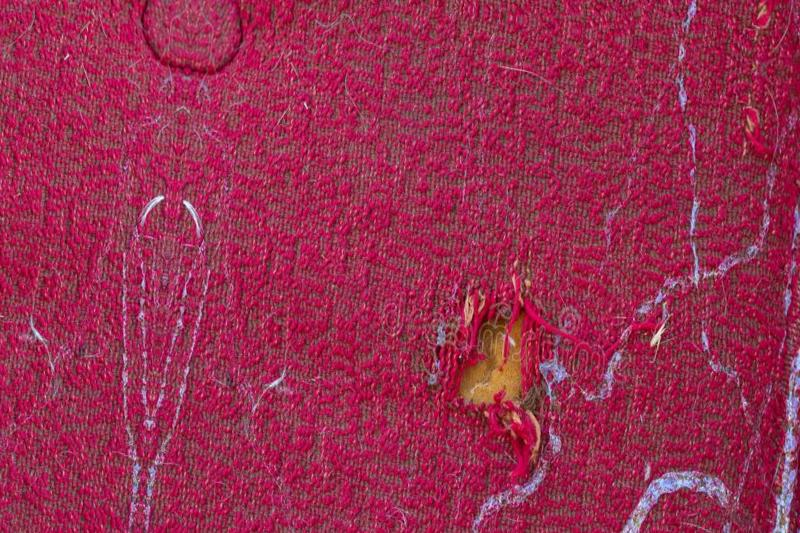hole: (442, 295, 555, 442)
